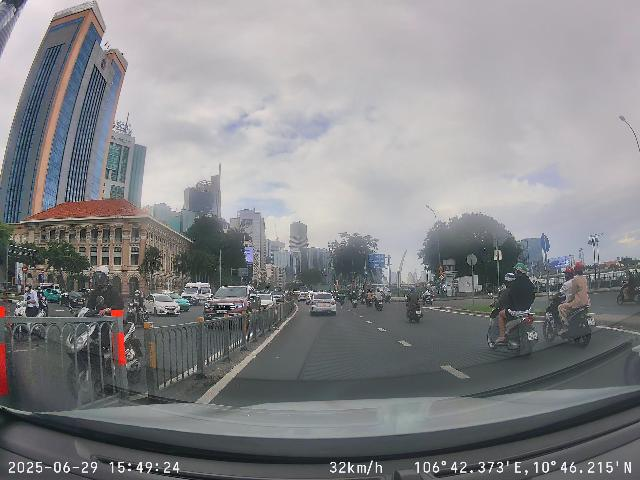301a-cac-xe-chi-duoc-di-thang: (541, 235, 550, 252)
